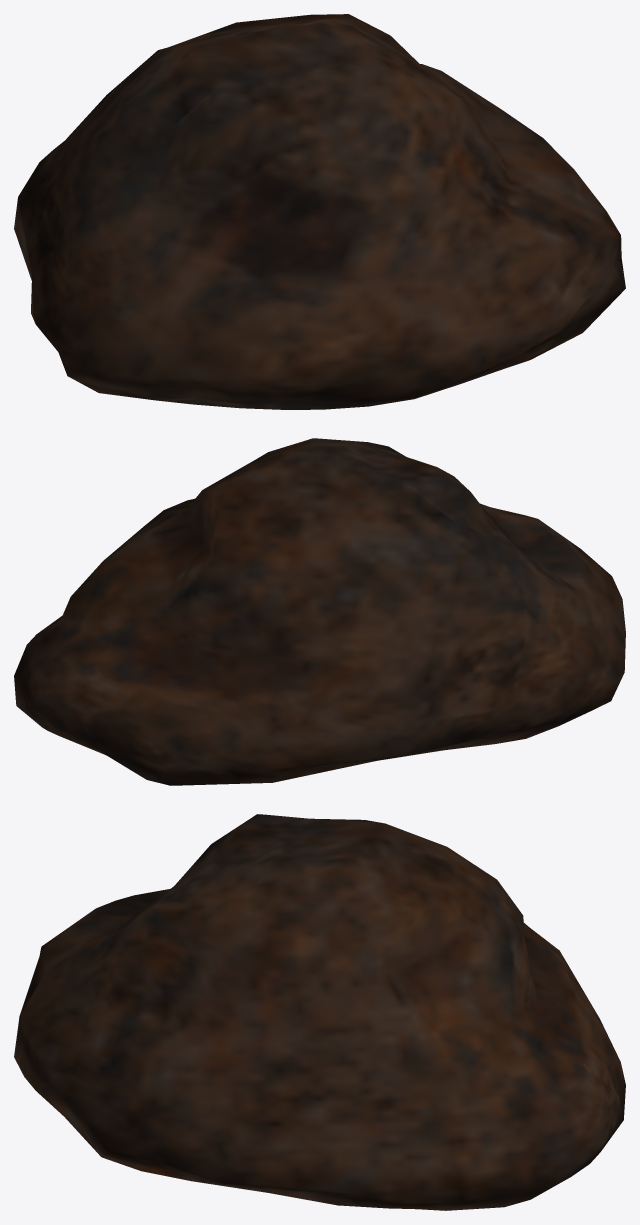
Rendered from sb_obj_nature006_Stone05b.fbx.
3 views of the same model, one above another, from view 1: azimuth 30°, elevation 25°; view 2: azimuth 150°, elevation 25°; view 3: azimuth 270°, elevation 25° (orthographic). The views are drawn at different scales.
Visible parts, largest first — view 1: sb_obj_nature006_Stone05b; view 2: sb_obj_nature006_Stone05b; view 3: sb_obj_nature006_Stone05b.
Boxes of the visible parts, <box> form: sb_obj_nature006_Stone05b: <box>14,14,625,409</box>; sb_obj_nature006_Stone05b: <box>14,438,625,785</box>; sb_obj_nature006_Stone05b: <box>14,814,625,1210</box>.
Size of the model in its own units: 0.6374 by 0.3119 by 0.6467.
